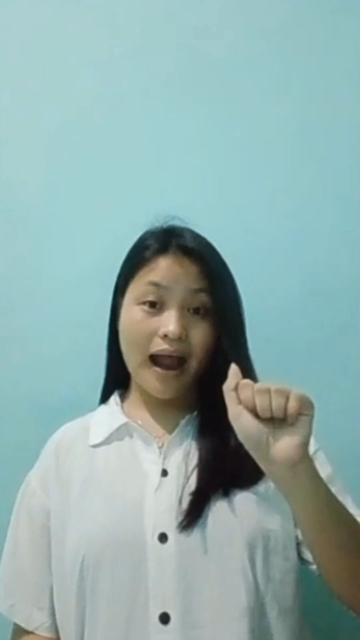A: (222, 355, 322, 491)
